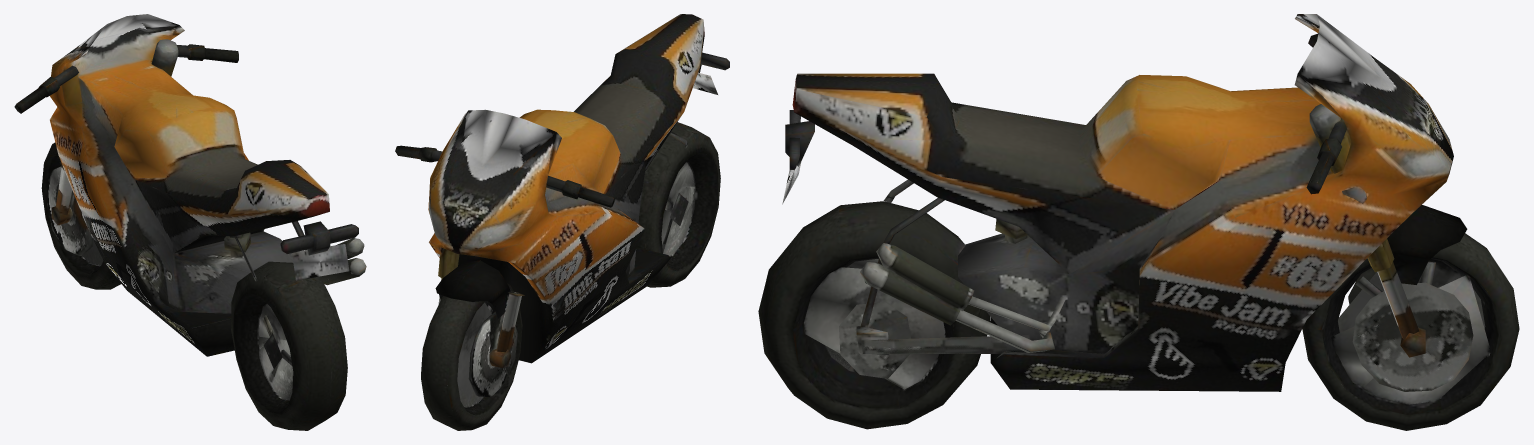
The model's file is orange_bike.glb.
The picture shows the model from 3 angles, left to right: view 1: azimuth 30°, elevation 25°; view 2: azimuth 150°, elevation 25°; view 3: azimuth 270°, elevation 25°; orthographic projection. The views are drawn at different scales.
Parts seen in each view (by area): view 1: tripo_node_0a706ead-17b1-4639-bc31-aa70abf7b935; view 2: tripo_node_0a706ead-17b1-4639-bc31-aa70abf7b935; view 3: tripo_node_0a706ead-17b1-4639-bc31-aa70abf7b935.
Part boxes in pixels (<box>): tripo_node_0a706ead-17b1-4639-bc31-aa70abf7b935: <box>14,14,366,430</box>; tripo_node_0a706ead-17b1-4639-bc31-aa70abf7b935: <box>395,14,729,430</box>; tripo_node_0a706ead-17b1-4639-bc31-aa70abf7b935: <box>758,14,1519,430</box>.
Bounding box in the file's own units: 0.459 × 0.5801 × 0.998.
1 material, 1 textured.
